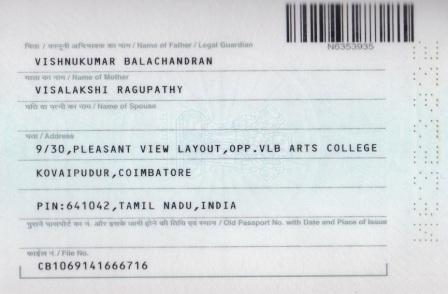File_no: (35, 259, 149, 271)
address: (31, 141, 395, 215)
father_name: (30, 50, 217, 68)
mother_name: (30, 83, 188, 97)
passport_no: (323, 42, 379, 55)
